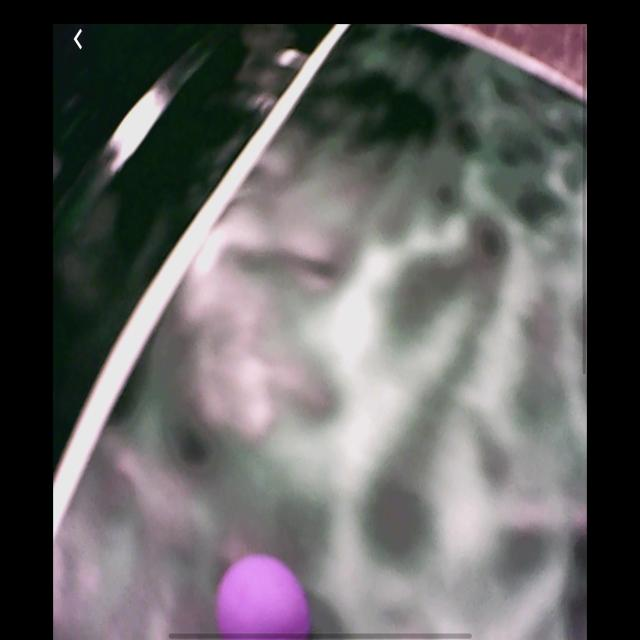ball: (216, 553, 313, 639)
